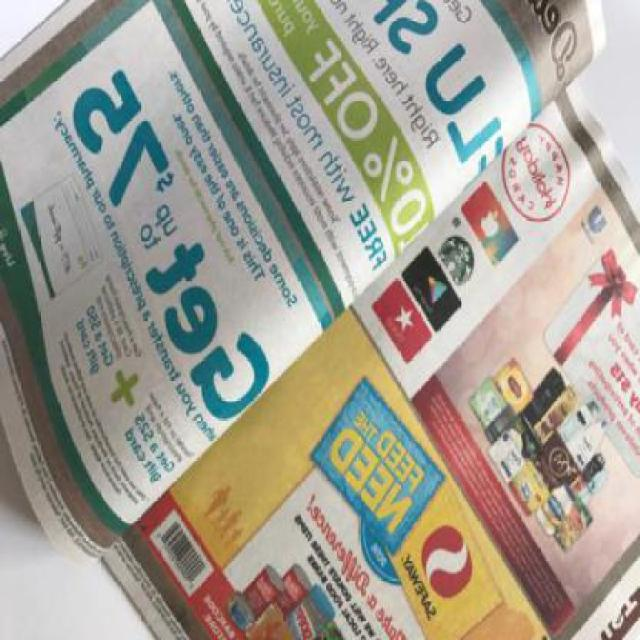paper: (1, 0, 640, 638), (1, 0, 608, 565), (103, 80, 639, 638)
